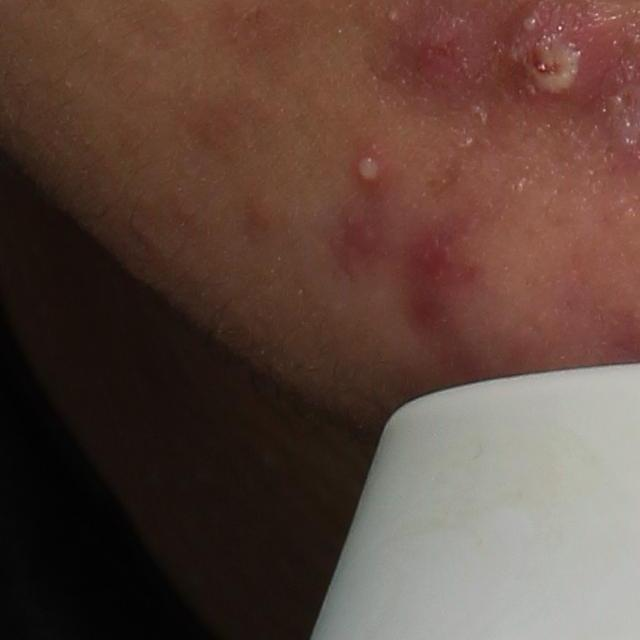papule: (398, 15, 483, 104)
pustule: (350, 148, 388, 201)
